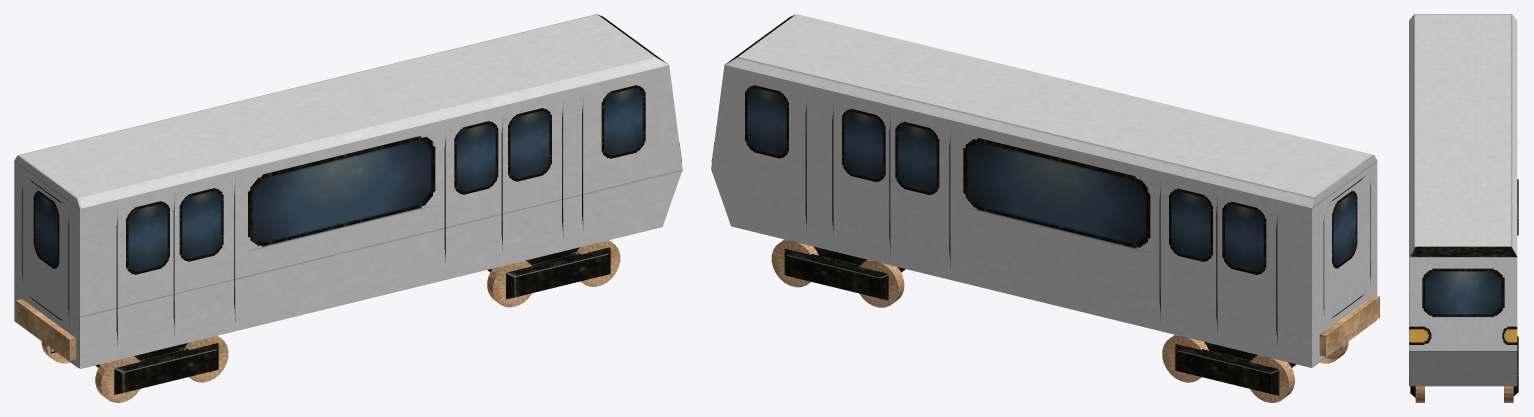
Rendered from subway_a.fbx.
3 views of the same model, side by side, from view 1: azimuth 30°, elevation 25°; view 2: azimuth 150°, elevation 25°; view 3: azimuth 270°, elevation 25° (orthographic). The views are drawn at different scales.
Visible parts, largest first — view 1: cuboid, plane_15, cuboid_9, cuboid_3, plane_6, plane_3, plane_11, plane_12, plane_5, plane_29, cube, cylinder_4 (+3 smaller); view 2: cuboid, plane_17, cuboid_4, cuboid_10, plane_21, plane_26, plane_25, plane_20, plane_16, plane_29, cube, cylinder_2 (+3 smaller); view 3: cuboid, plane, plane_1, plane_2, cylinder_1, cylinder_3, cuboid_4.
Boxes of the visible parts, bbox=[...] form: cuboid: bbox=[14, 14, 682, 368]; plane_15: bbox=[248, 136, 435, 251]; cuboid_9: bbox=[114, 343, 218, 394]; cuboid_3: bbox=[506, 247, 610, 299]; plane_6: bbox=[179, 188, 223, 261]; plane_3: bbox=[601, 85, 645, 158]; plane_11: bbox=[454, 121, 498, 194]; plane_12: bbox=[508, 108, 551, 181]; plane_5: bbox=[126, 201, 169, 274]; plane_29: bbox=[33, 191, 59, 268]; cube: bbox=[15, 299, 75, 360]; cylinder_4: bbox=[95, 356, 140, 402]; cuboid: bbox=[711, 14, 1377, 367]; plane_17: bbox=[963, 138, 1150, 252]; cuboid_4: bbox=[784, 248, 888, 300]; cuboid_10: bbox=[1175, 344, 1279, 395]; plane_21: bbox=[895, 121, 939, 195]; plane_26: bbox=[1222, 201, 1266, 274]; plane_25: bbox=[1169, 188, 1212, 261]; plane_20: bbox=[842, 109, 885, 182]; plane_16: bbox=[745, 85, 788, 158]; plane_29: bbox=[1332, 190, 1357, 268]; cube: bbox=[1319, 295, 1379, 356]; cylinder_2: bbox=[859, 260, 904, 307]; cuboid: bbox=[1409, 14, 1517, 386]; plane: bbox=[1422, 268, 1504, 317]; plane_1: bbox=[1409, 326, 1431, 344]; plane_2: bbox=[1502, 326, 1517, 344]; cylinder_1: bbox=[1415, 386, 1424, 402]; cylinder_3: bbox=[1504, 386, 1513, 402]; cuboid_4: bbox=[1513, 336, 1518, 395].
Size of the model in its own units: 1137 by 384 by 219.
1 material, 1 textured.
